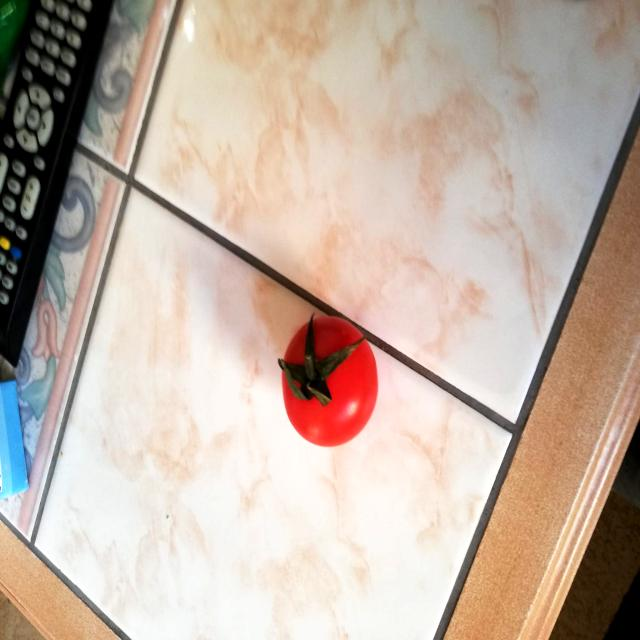tomato: (276, 296, 380, 452)
